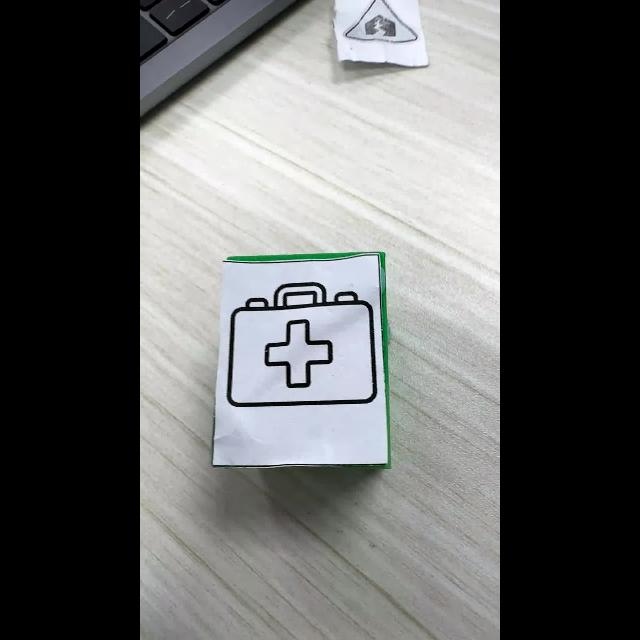Medkit: (227, 283, 377, 407)
